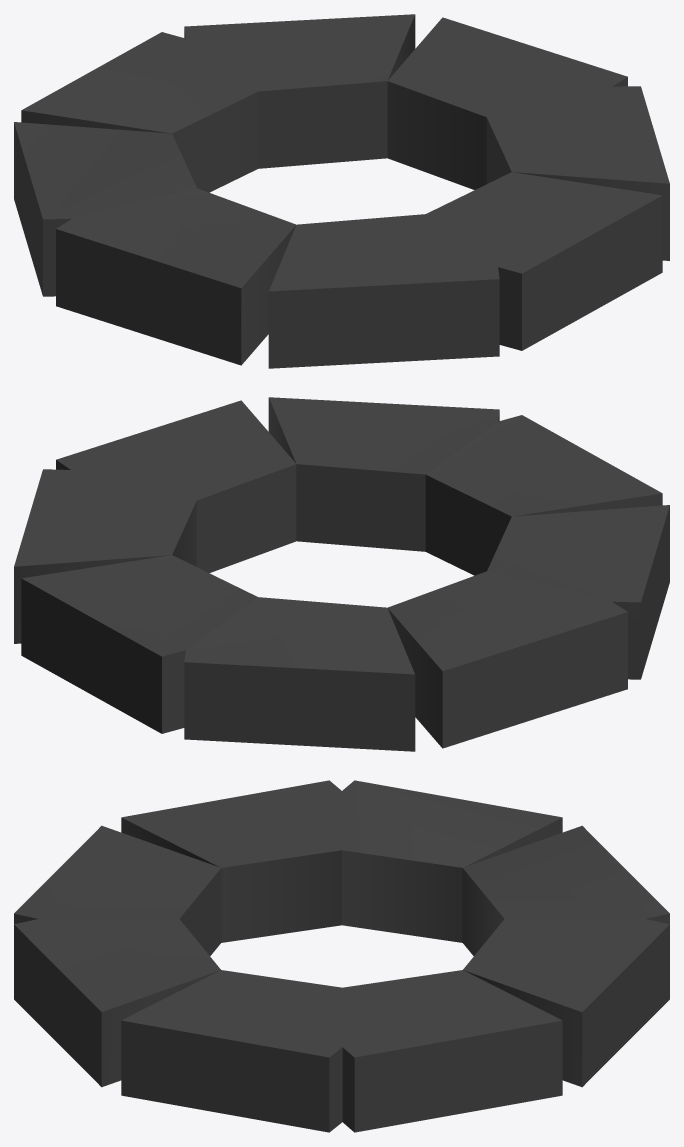
File: Stack5.fbx
3 views of the same model, one above another, from view 1: azimuth 30°, elevation 25°; view 2: azimuth 150°, elevation 25°; view 3: azimuth 270°, elevation 25° (orthographic). The views are drawn at different scales.
Visible parts, largest first — view 1: Plane.008, Plane.009, Plane.010, Plane.011; view 2: Plane.010, Plane.009, Plane.008, Plane.011; view 3: Plane.011, Plane.009, Plane.010, Plane.008.
Part boxes in pixels (x1,y1,x2,y2): Plane.008: (268,172,662,368); Plane.009: (14,122,295,365); Plane.010: (21,14,415,192); Plane.011: (387,17,669,260); Plane.010: (21,555,415,751); Plane.009: (388,505,669,748); Plane.008: (268,397,662,575); Plane.011: (14,400,296,643); Plane.011: (121,970,562,1132); Plane.009: (121,780,562,942); Plane.010: (462,825,669,1087); Plane.008: (14,825,221,1087).
Size of the model in its own units: 212 by 26.82 by 212.
